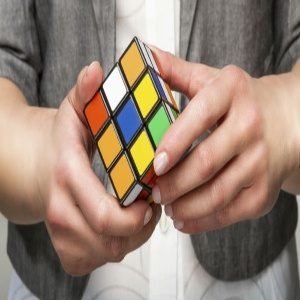cube: (83, 35, 193, 209)
